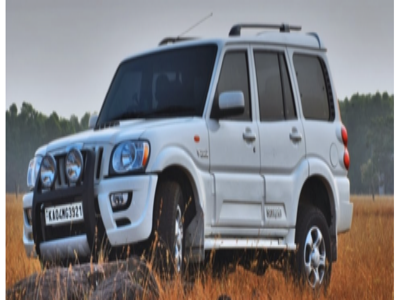licence: (42, 204, 86, 222)
